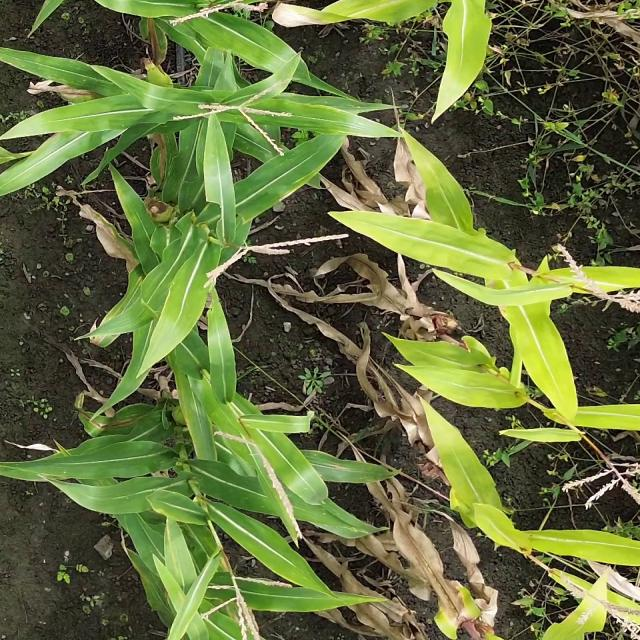northern-leaf-blight: (150, 136, 180, 186), (84, 411, 142, 434), (165, 532, 193, 578)
southern-leaf-blight: (26, 54, 101, 86), (312, 452, 382, 486), (302, 498, 351, 526), (233, 124, 265, 156)
